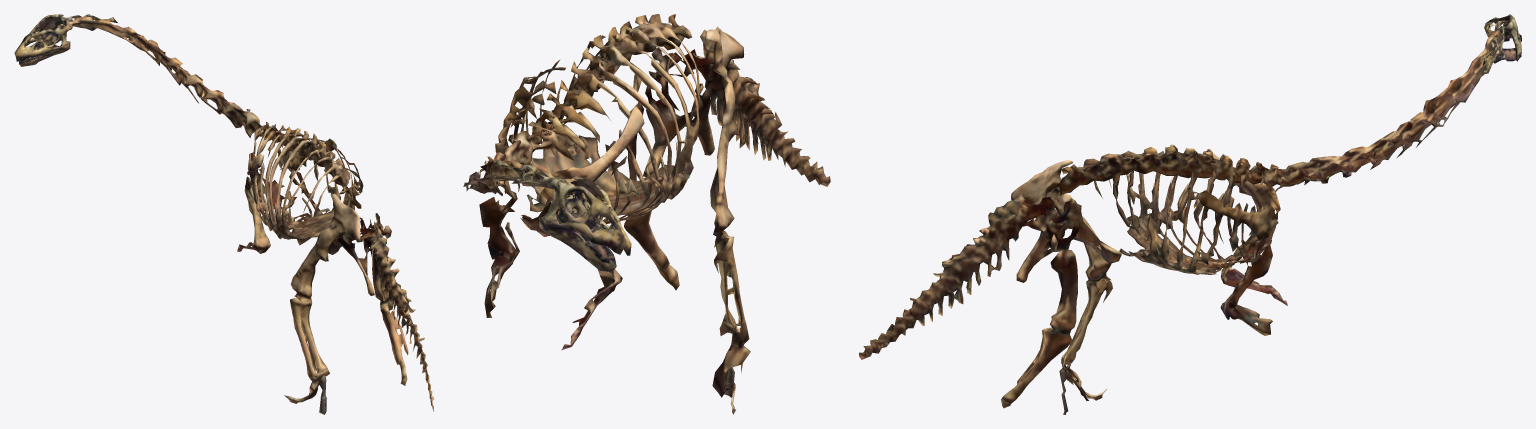
Rendered from dinosaur_1.glb.
The picture shows the model from 3 angles, left to right: view 1: azimuth 30°, elevation 25°; view 2: azimuth 150°, elevation 25°; view 3: azimuth 270°, elevation 25°; orthographic projection. The views are drawn at different scales.
Visible parts, largest first — view 1: geo1; view 2: geo1; view 3: geo1.
Boxes of the visible parts, x1=… form: geo1: x1=14, y1=14, x2=434, y2=414; geo1: x1=463, y1=14, x2=830, y2=414; geo1: x1=859, y1=14, x2=1521, y2=414.
Size of the model in its own units: 0.5591 by 0.7538 by 1.31.
Materials: 1 (1 with a texture image).
